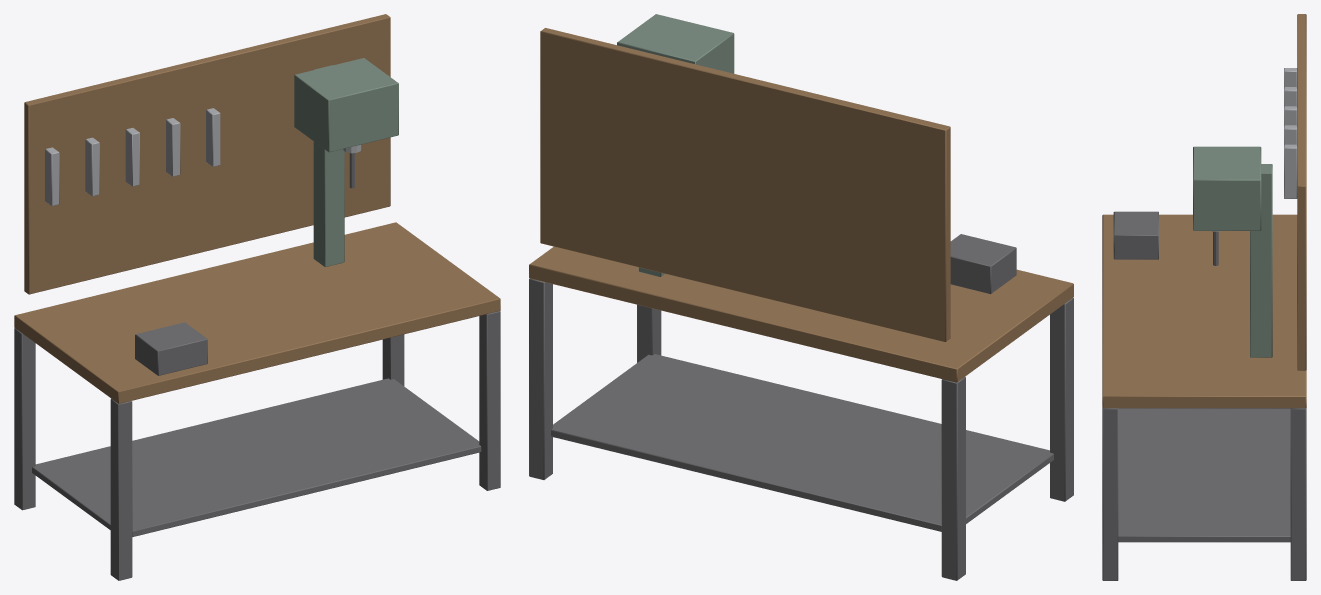
The model's file is feM_Assembler.fbx.
3 views of the same model, side by side, from view 1: azimuth 30°, elevation 25°; view 2: azimuth 150°, elevation 25°; view 3: azimuth 270°, elevation 25° (orthographic). The views are drawn at different scales.
Parts seen in each view (by area): view 1: feM_Assembler_Base; view 2: feM_Assembler_Base; view 3: feM_Assembler_Base.
Part boxes in pixels (box(x1,y1,x2,y2)): feM_Assembler_Base: box(14, 14, 500, 580); feM_Assembler_Base: box(529, 14, 1073, 580); feM_Assembler_Base: box(1102, 14, 1306, 580).
Size of the model in its own units: 1.9 by 1.9 by 0.9.
